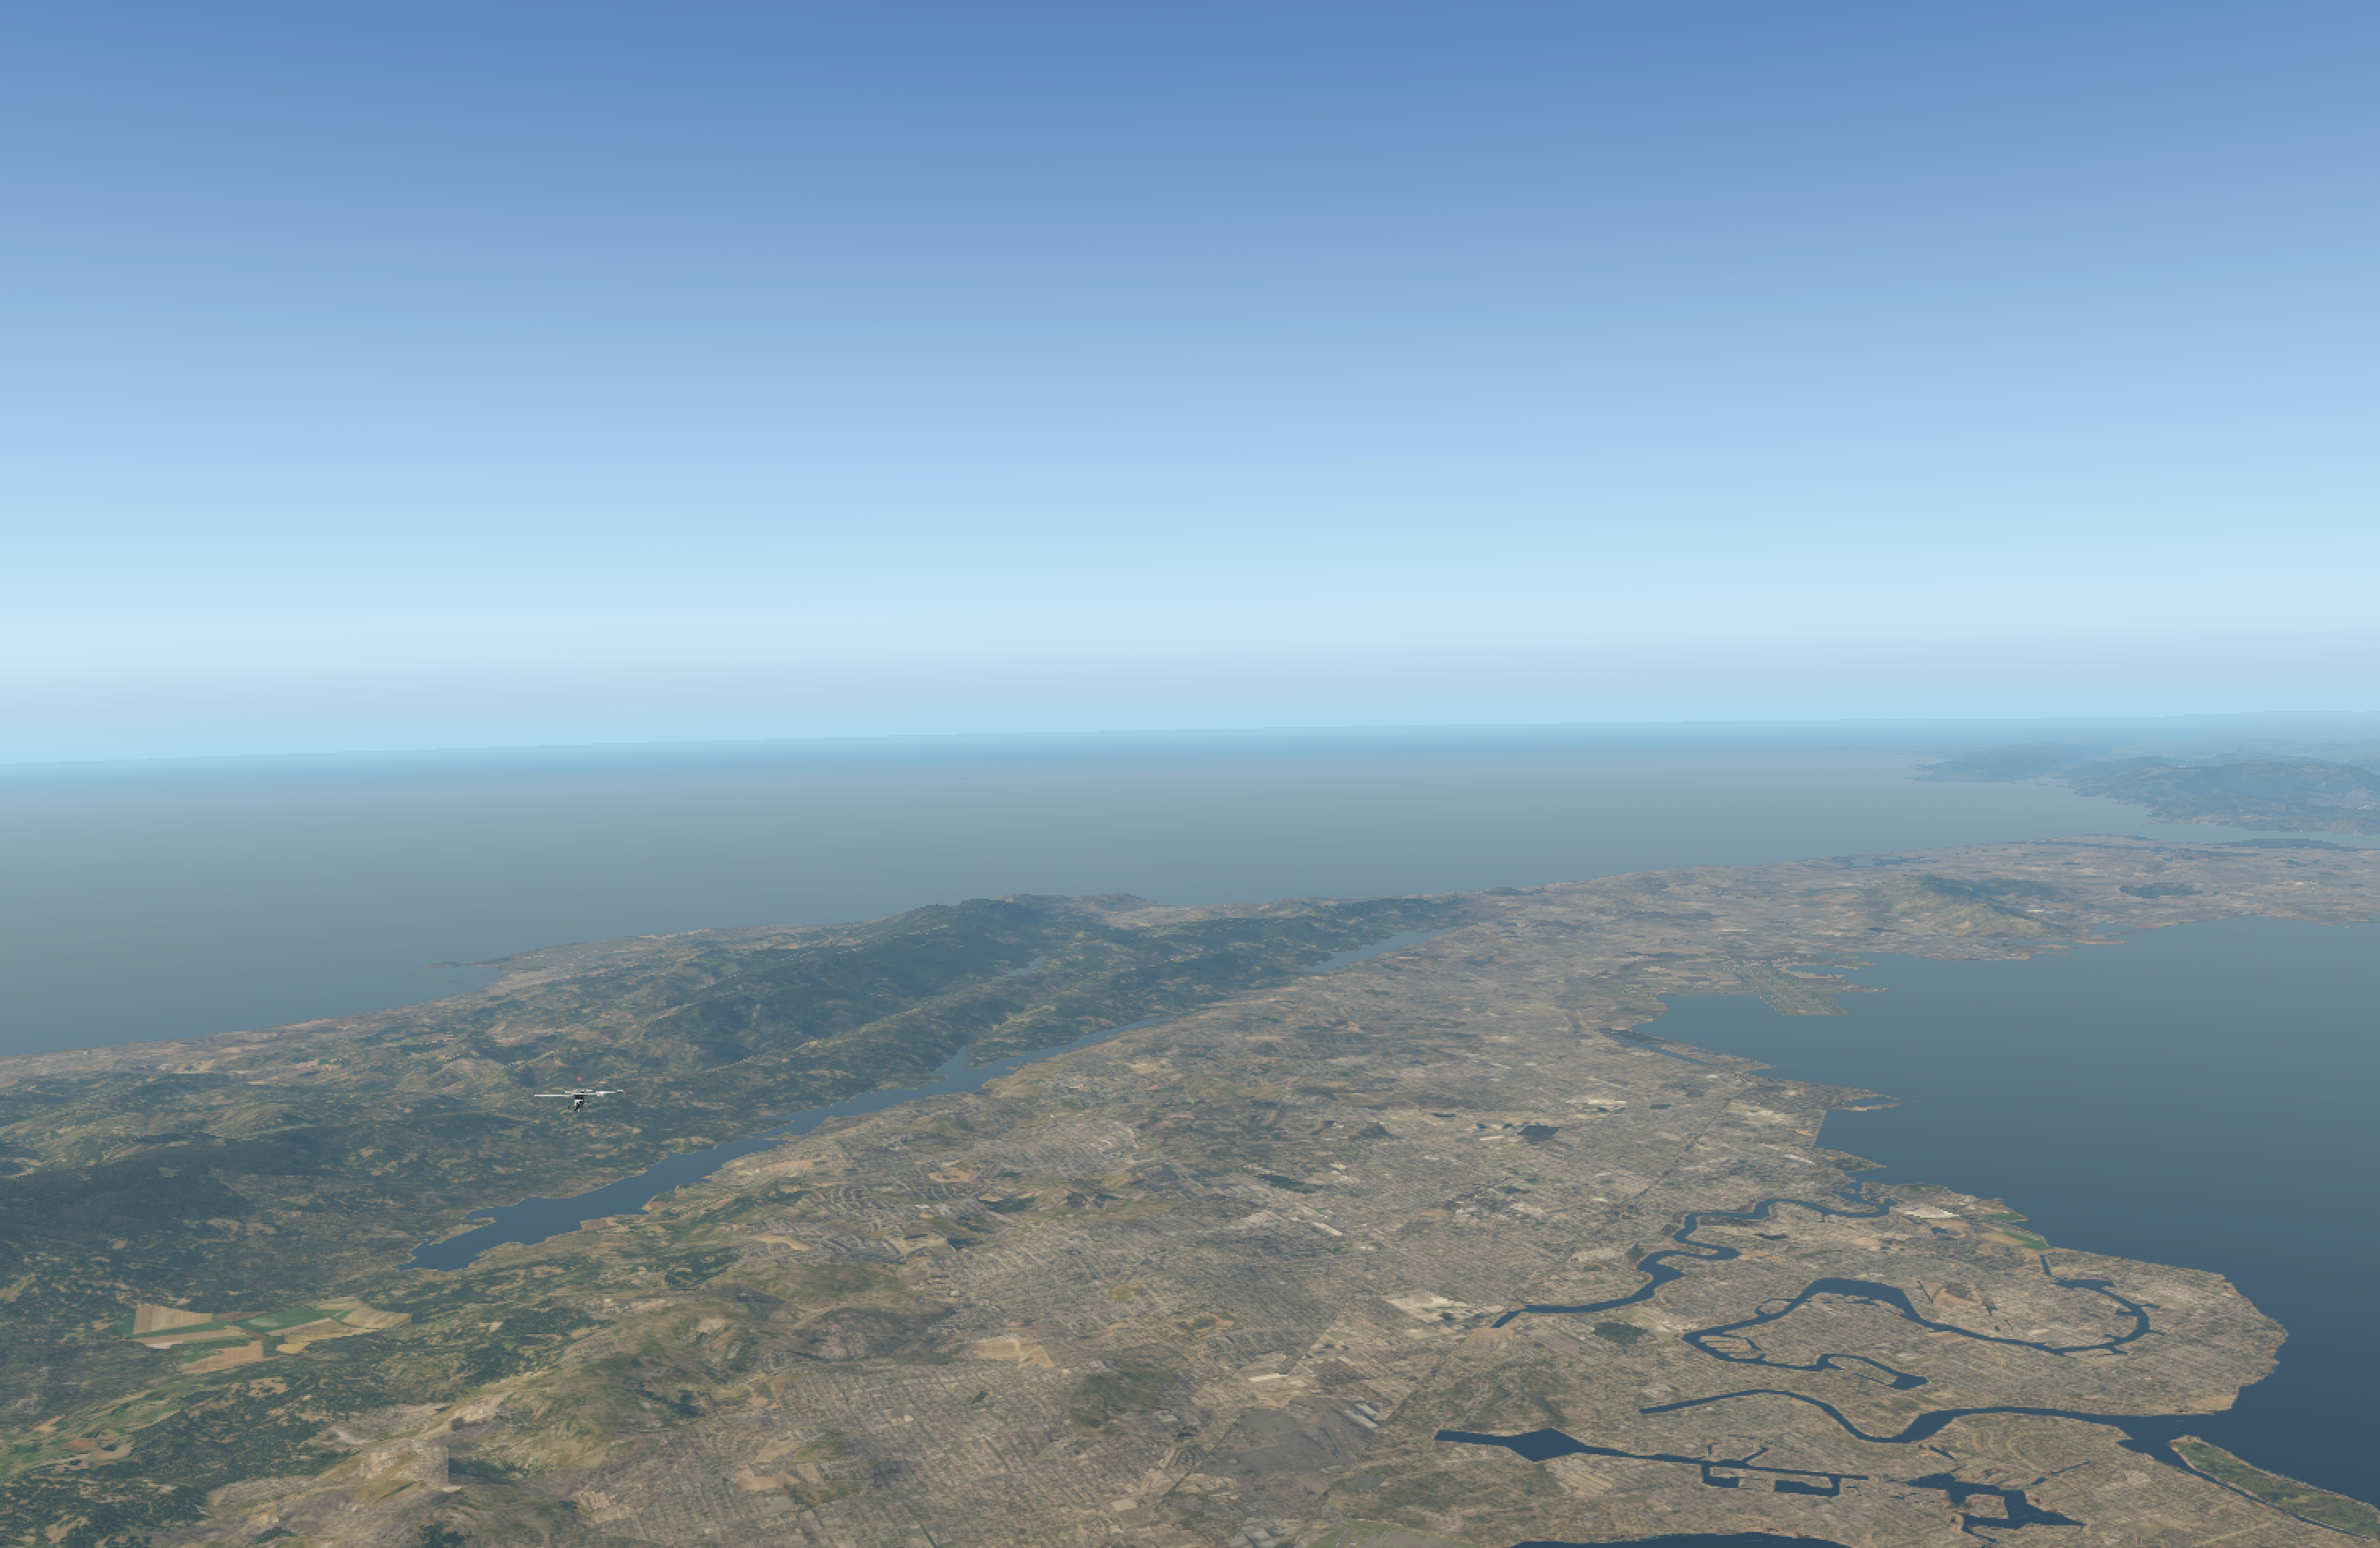aircraft: (550, 1088, 609, 1111)
